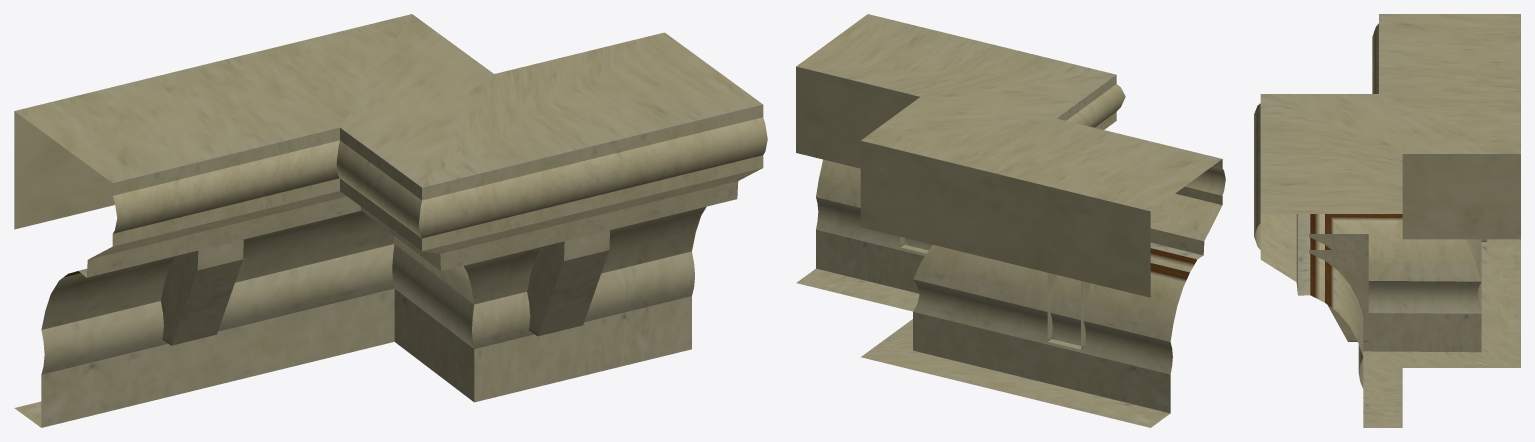
File: cornice_trim_90angle_r.glb
3 views of the same model, side by side, from view 1: azimuth 30°, elevation 25°; view 2: azimuth 150°, elevation 25°; view 3: azimuth 270°, elevation 25° (orthographic). The views are drawn at different scales.
Parts seen in each view (by area): view 1: Cornice_Trim_90Angle_R; view 2: Cornice_Trim_90Angle_R; view 3: Cornice_Trim_90Angle_R.
Part boxes in pixels (<box>): Cornice_Trim_90Angle_R: <box>14,14,767,427</box>; Cornice_Trim_90Angle_R: <box>796,14,1225,427</box>; Cornice_Trim_90Angle_R: <box>1254,14,1520,427</box>.
Size of the model in its own units: 2 by 0.9984 by 1.13.
1 material, 1 textured.
